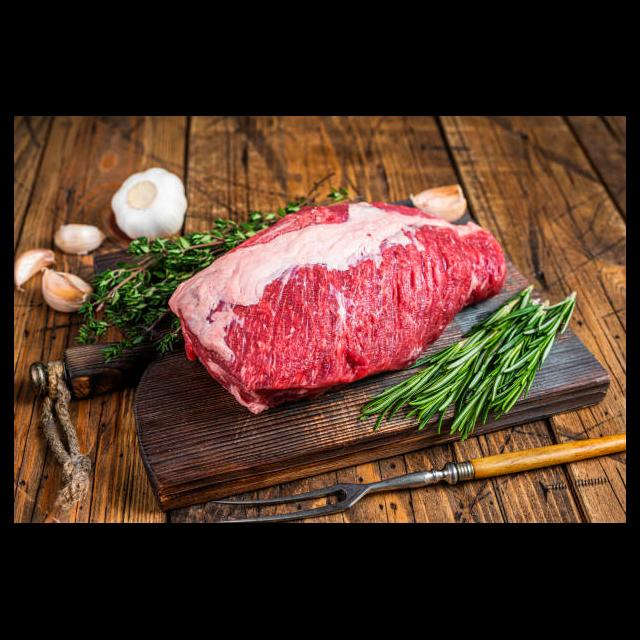beef: (166, 197, 508, 414)
